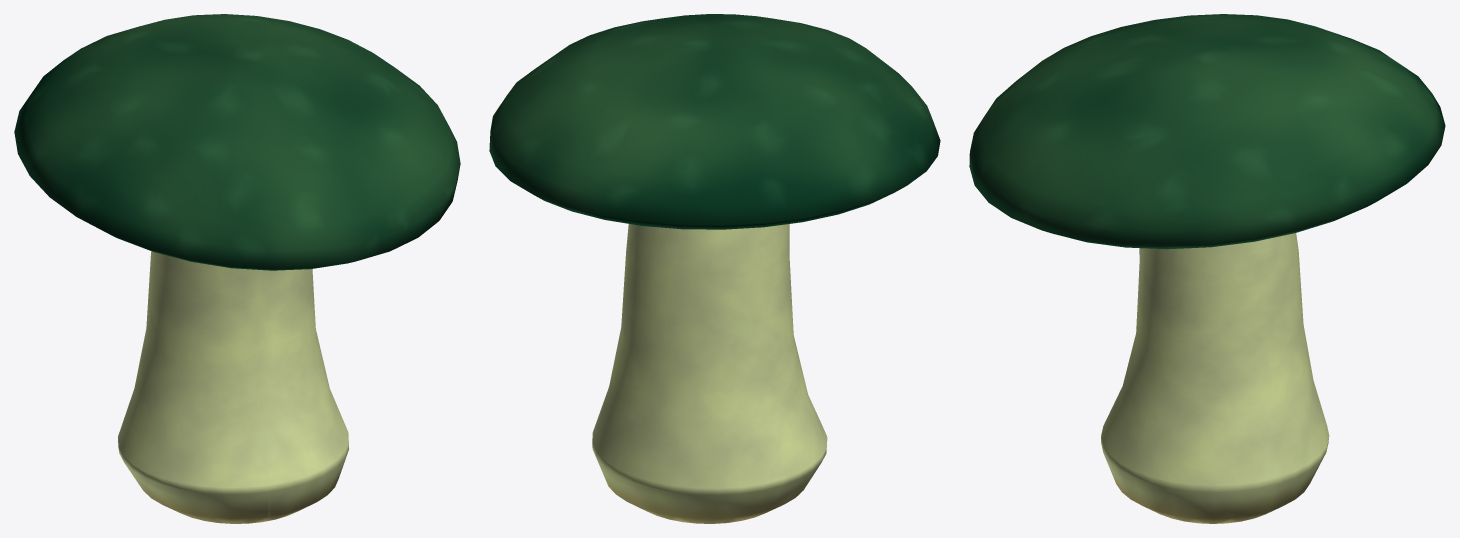
The model's file is smallshroom.obj.
3 renders of one model, left to right at view 1: azimuth 30°, elevation 25°; view 2: azimuth 150°, elevation 25°; view 3: azimuth 270°, elevation 25°, orthographic.
Parts seen in each view (by area): view 1: Head.001; view 2: Head.001; view 3: Head.001.
Part boxes in pixels (x1,y1,x2,y2): Head.001: [14, 14, 460, 523]; Head.001: [489, 14, 940, 523]; Head.001: [969, 14, 1445, 523].
Bounding box in the file's own units: 9.77 × 10.82 × 10.59.
